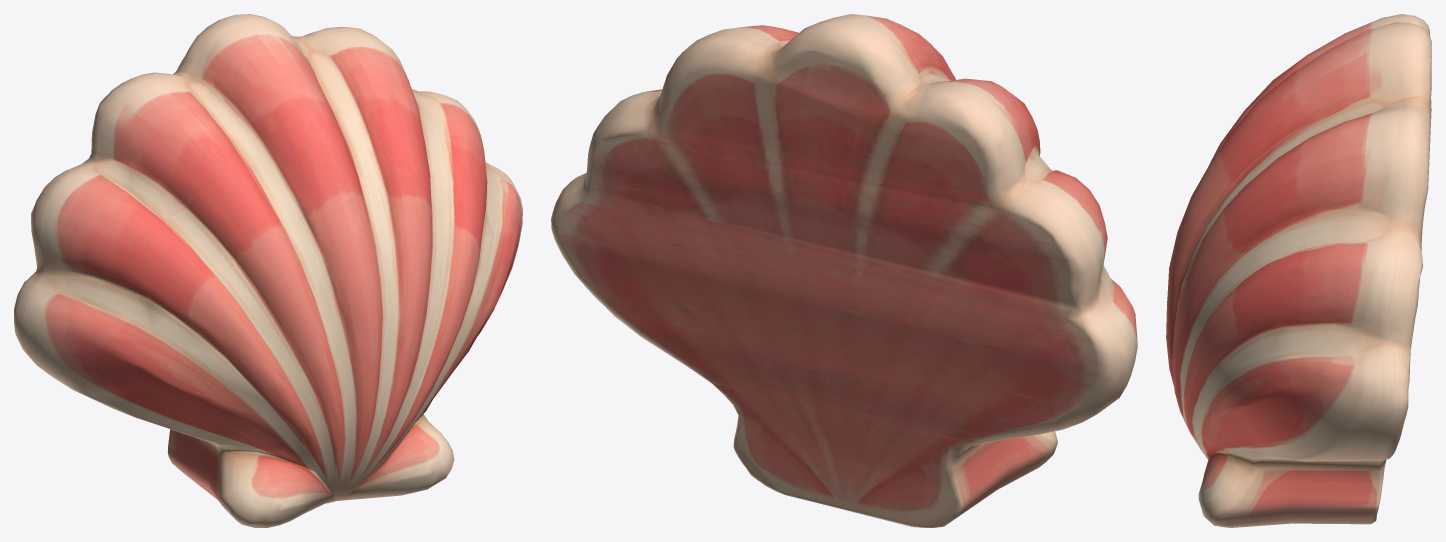
The model's file is shell-scallop.glb.
3 renders of one model, left to right at view 1: azimuth 30°, elevation 25°; view 2: azimuth 150°, elevation 25°; view 3: azimuth 270°, elevation 25°, orthographic. The views are drawn at different scales.
Visible parts, largest first — view 1: Mesh_0; view 2: Mesh_0; view 3: Mesh_0.
Part boxes in pixels (x1,y1,x2,y2): Mesh_0: (14, 14, 522, 527); Mesh_0: (551, 14, 1137, 527); Mesh_0: (1166, 14, 1431, 527).
Size of the model in its own units: 1 by 0.8426 by 0.447.
Materials: 1 (1 with a texture image).
